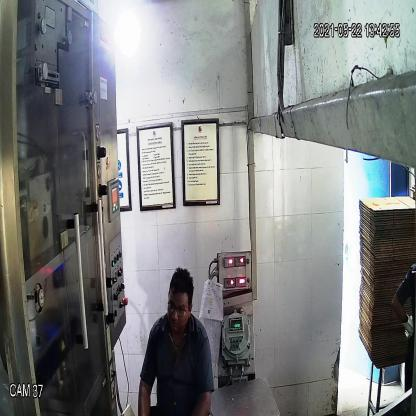goggles: (165, 298, 192, 318)
